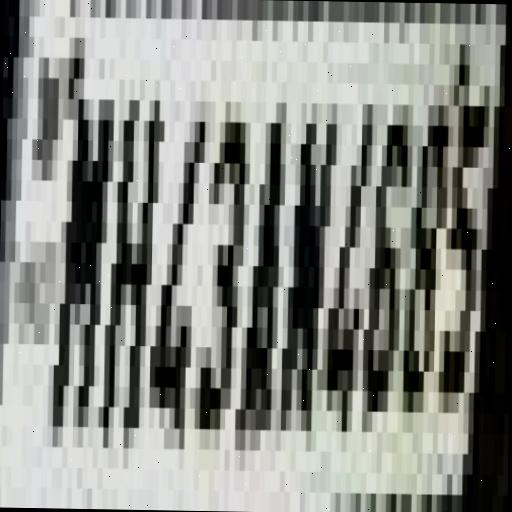number plate: (0, 15, 490, 512)
